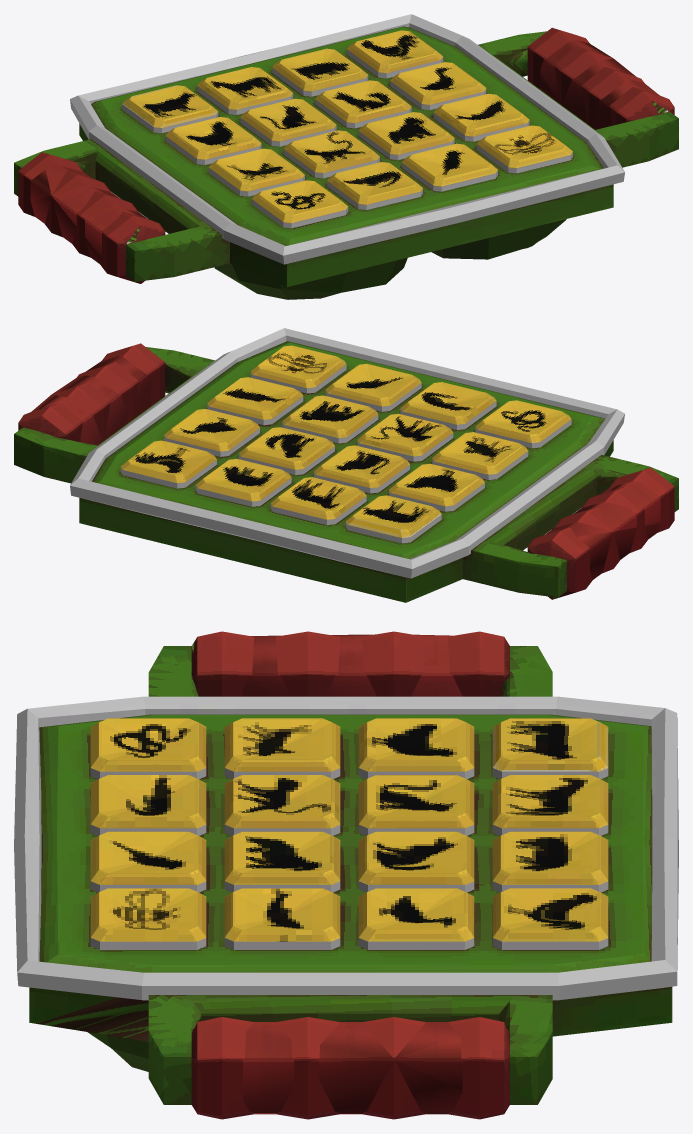
Rendered from item_midipad_animal.glb.
The picture shows the model from 3 angles, top to bottom: view 1: azimuth 30°, elevation 25°; view 2: azimuth 150°, elevation 25°; view 3: azimuth 270°, elevation 25°; orthographic projection. The views are drawn at different scales.
Visible parts, largest first — view 1: Hull, Butt, Buttons.013, Buttons.014, Buttons.015, Buttons.016, Buttons.002, Buttons.001, Buttons.006, Buttons.009, Buttons.012, Buttons.010 (+6 smaller); view 2: Hull, Buttons.004, Buttons.001, Buttons.002, Buttons.003, Buttons.011, Buttons.010, Buttons.012, Buttons.016, Buttons.013, Buttons.015, Buttons.008 (+5 smaller); view 3: Hull, Buttons.004, Buttons.008, Buttons.012, Buttons.016, Buttons.003, Buttons.007, Buttons.011, Buttons.015, Buttons.002, Buttons.001, Buttons.005 (+6 smaller).
Part boxes in pixels (x1,y1,x2,y2): Hull: [14, 14, 678, 286]; Butt: [214, 219, 566, 299]; Buttons.013: [252, 180, 348, 228]; Buttons.014: [327, 162, 422, 209]; Buttons.015: [402, 143, 497, 191]; Buttons.016: [477, 125, 572, 173]; Buttons.002: [197, 67, 293, 114]; Buttons.001: [122, 85, 218, 133]; Buttons.006: [240, 98, 336, 146]; Buttons.009: [208, 148, 304, 196]; Buttons.012: [433, 93, 529, 141]; Buttons.010: [283, 130, 379, 178]; Hull: [14, 328, 678, 602]; Buttons.004: [120, 440, 216, 488]; Buttons.001: [345, 495, 441, 543]; Buttons.002: [270, 477, 366, 525]; Buttons.003: [195, 459, 291, 506]; Buttons.011: [282, 395, 378, 443]; Buttons.010: [357, 413, 453, 461]; Buttons.012: [207, 377, 303, 425]; Buttons.016: [250, 345, 346, 393]; Buttons.013: [475, 400, 571, 448]; Buttons.015: [325, 364, 421, 411]; Buttons.008: [164, 409, 259, 456]; Hull: [14, 631, 678, 1119]; Buttons.004: [492, 888, 608, 949]; Buttons.008: [358, 888, 474, 949]; Buttons.012: [224, 888, 340, 949]; Buttons.016: [90, 888, 206, 949]; Buttons.003: [492, 831, 608, 892]; Buttons.007: [358, 831, 474, 892]; Buttons.011: [224, 831, 340, 892]; Buttons.015: [90, 831, 206, 892]; Buttons.002: [492, 775, 608, 835]; Buttons.001: [492, 718, 608, 779]; Buttons.005: [358, 718, 474, 779].
Bounding box in the file's own units: 0.525 × 0.084 × 0.3474.
1 material, 1 textured.
